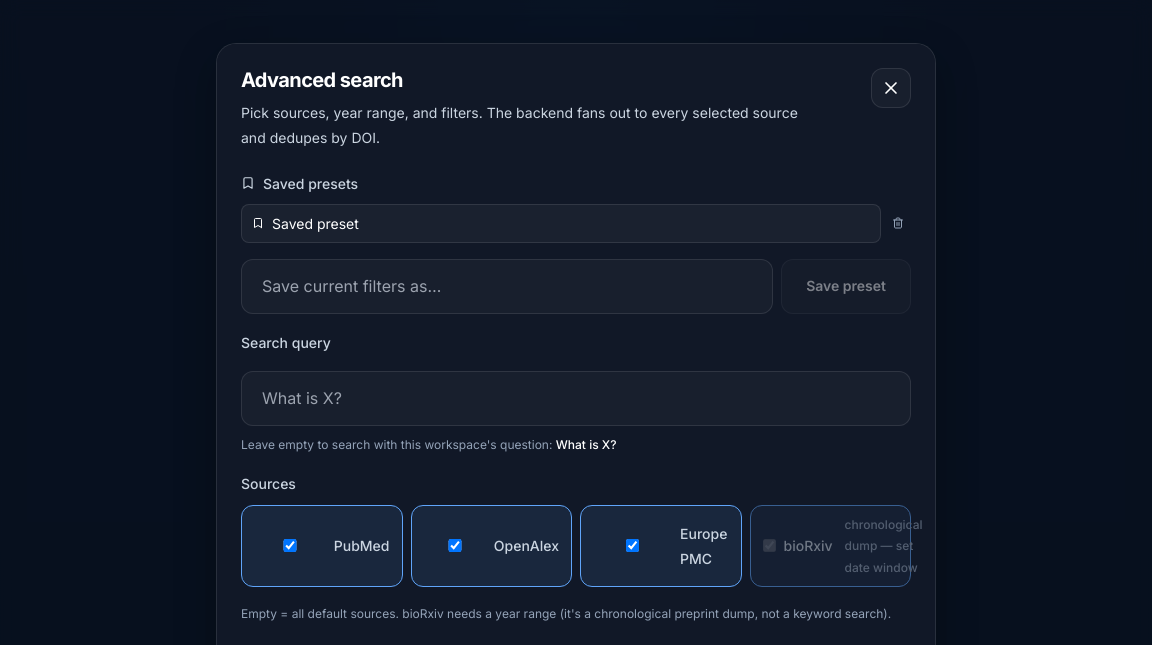
AdvancedSearchModal › presets › loads a preset back into the draftFilters
Click the button with aria-label "Load preset" at (315, 223), box [241,204,881,243]
(page scrolled)
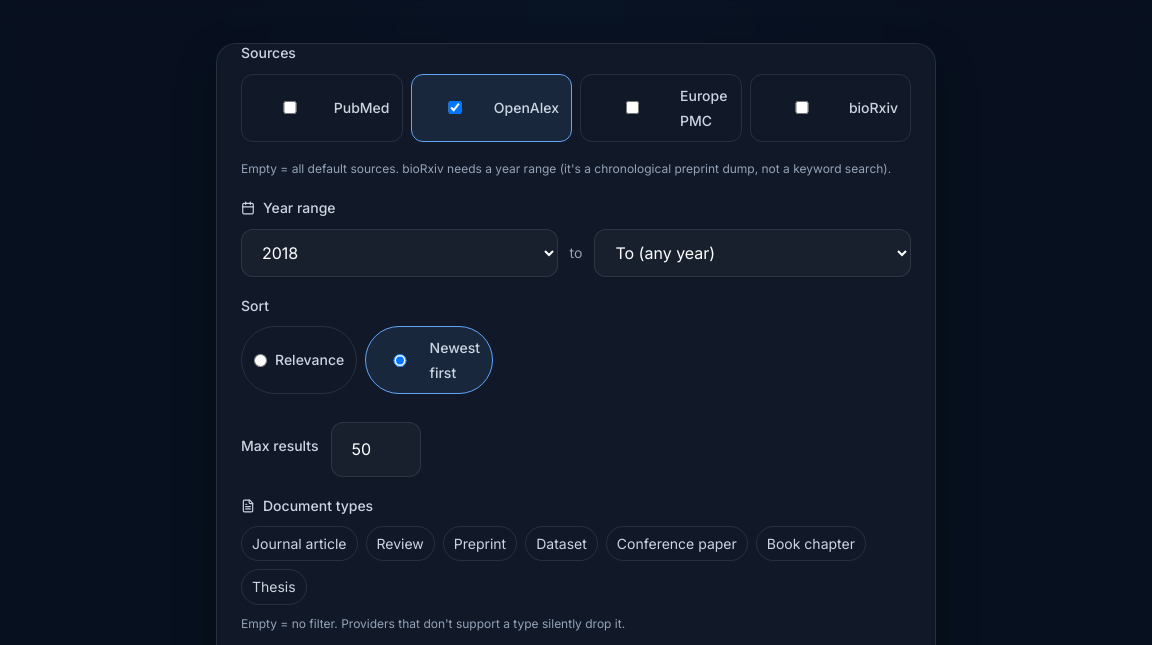
expect the 1st dropdown shows "2018": met, box [241,229,558,277]
expect the radio button labelled "Newest first" is checked: met, box [378,354,422,366]
